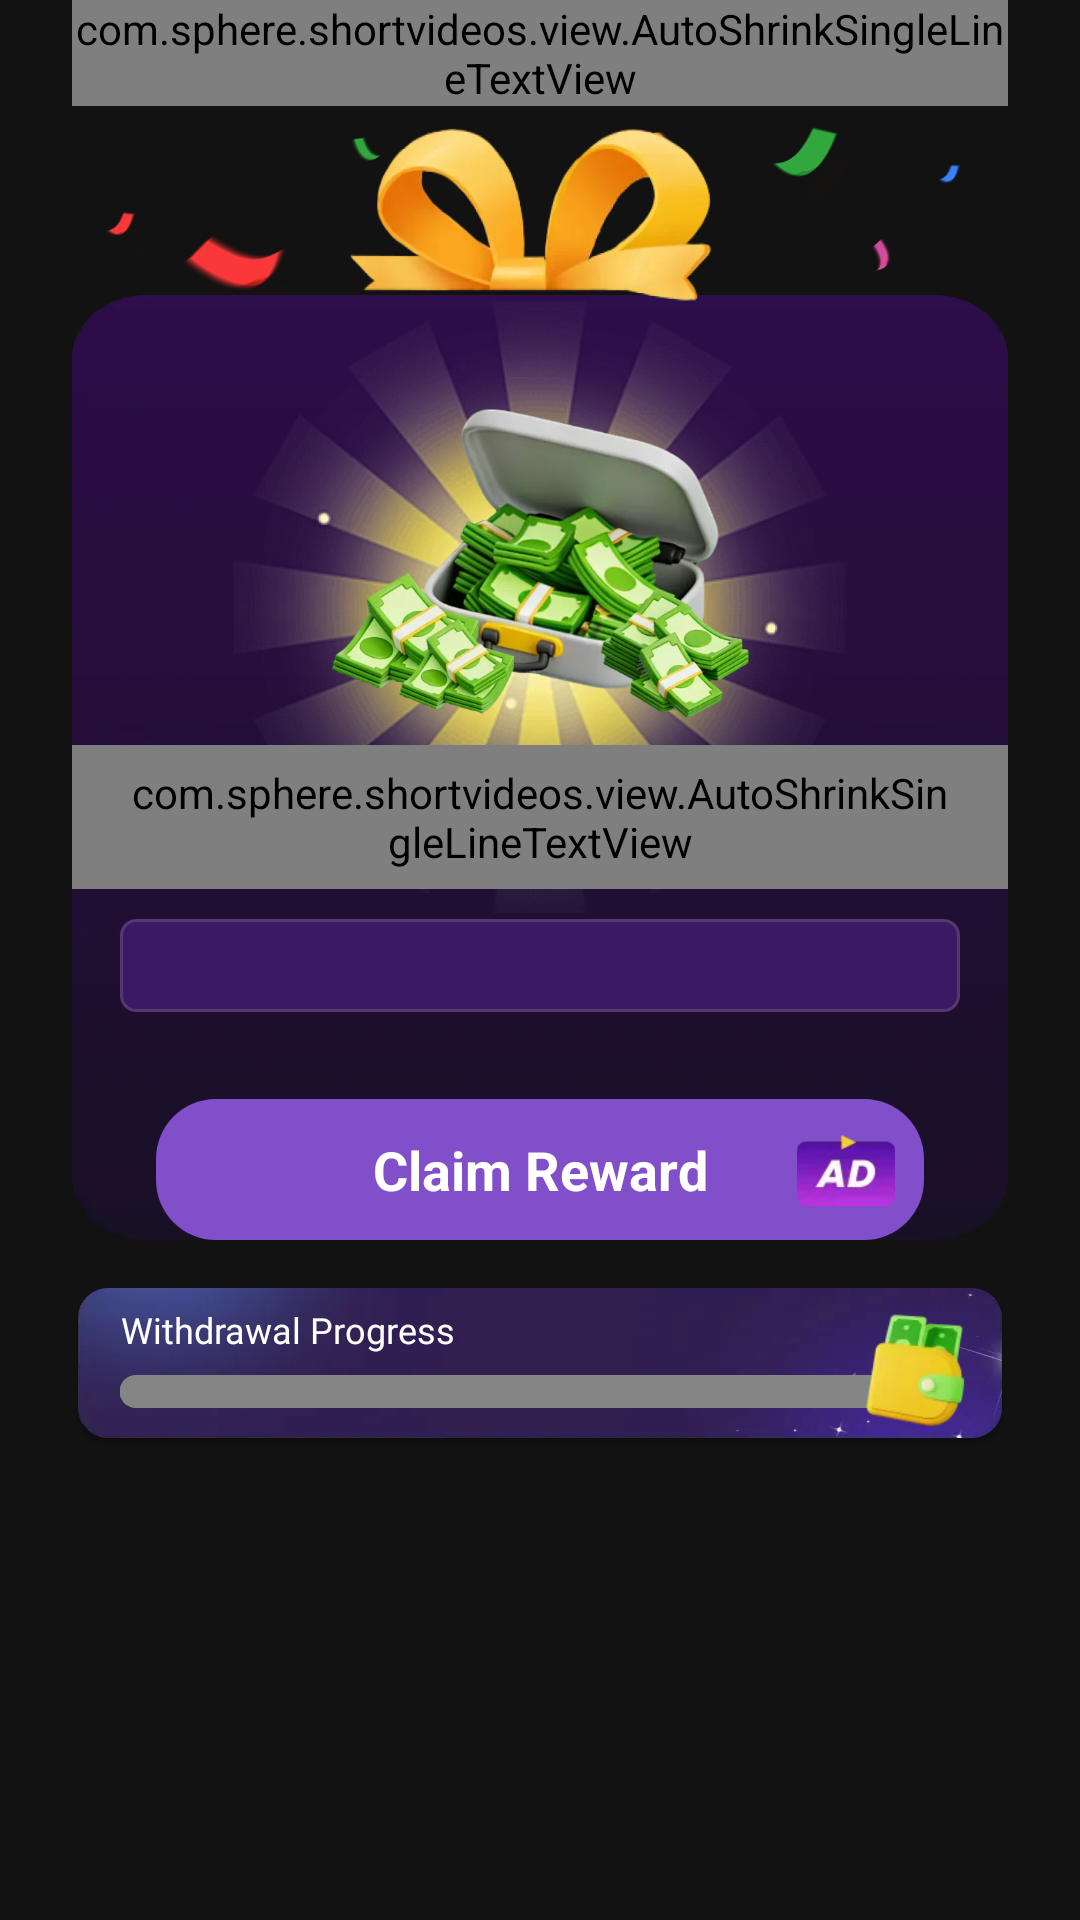

Point at icon controls on the screen. Image size 1080w x 1920h, points as point (x, y).
bill: point (916, 1369)
